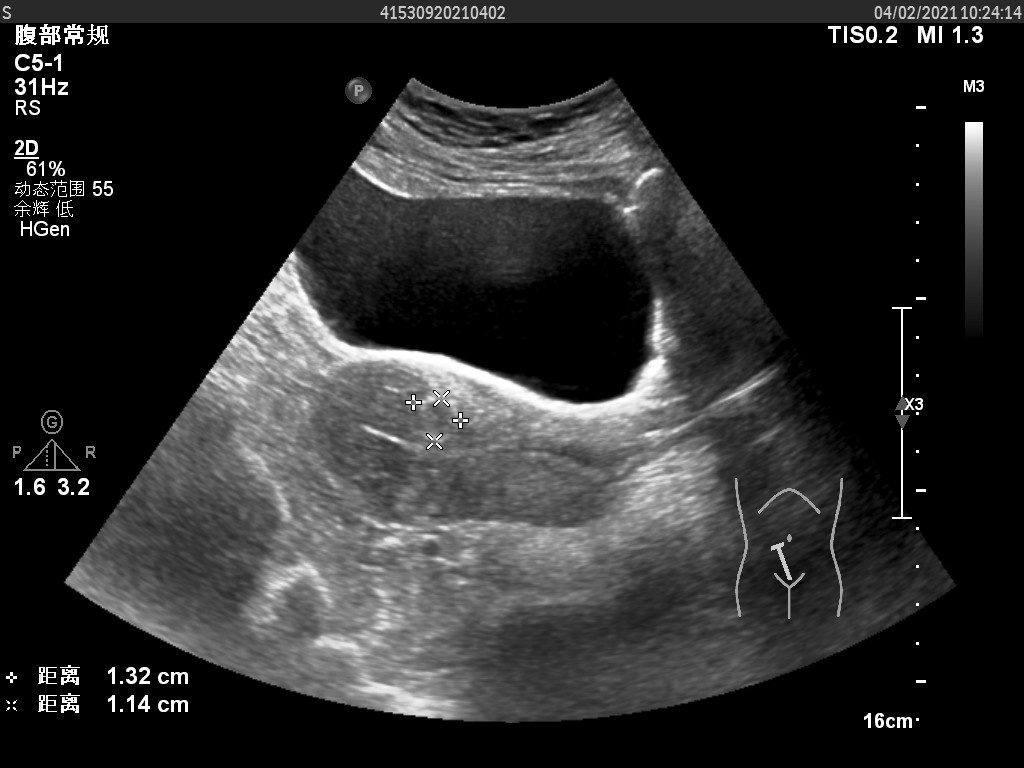肌瘤: (419, 399, 458, 433)
